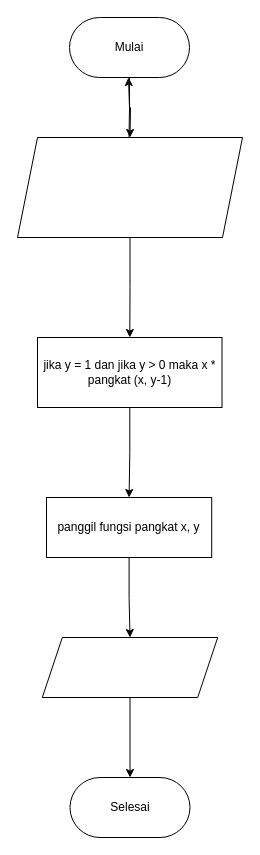
Image size: 260x855. Some labels were removed from this diagram. The shapes that lost their labels are listed below. From the top down, each one's centre as x and y in pixels, then its label:
the point at 129,187: Masukan nilai x dan y
the point at 129,667: menampilkan output hasil
